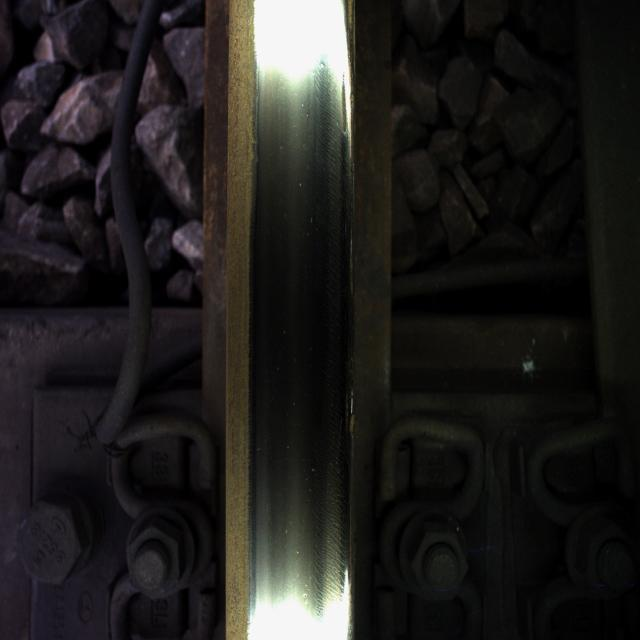normal: (260, 51, 348, 588)
